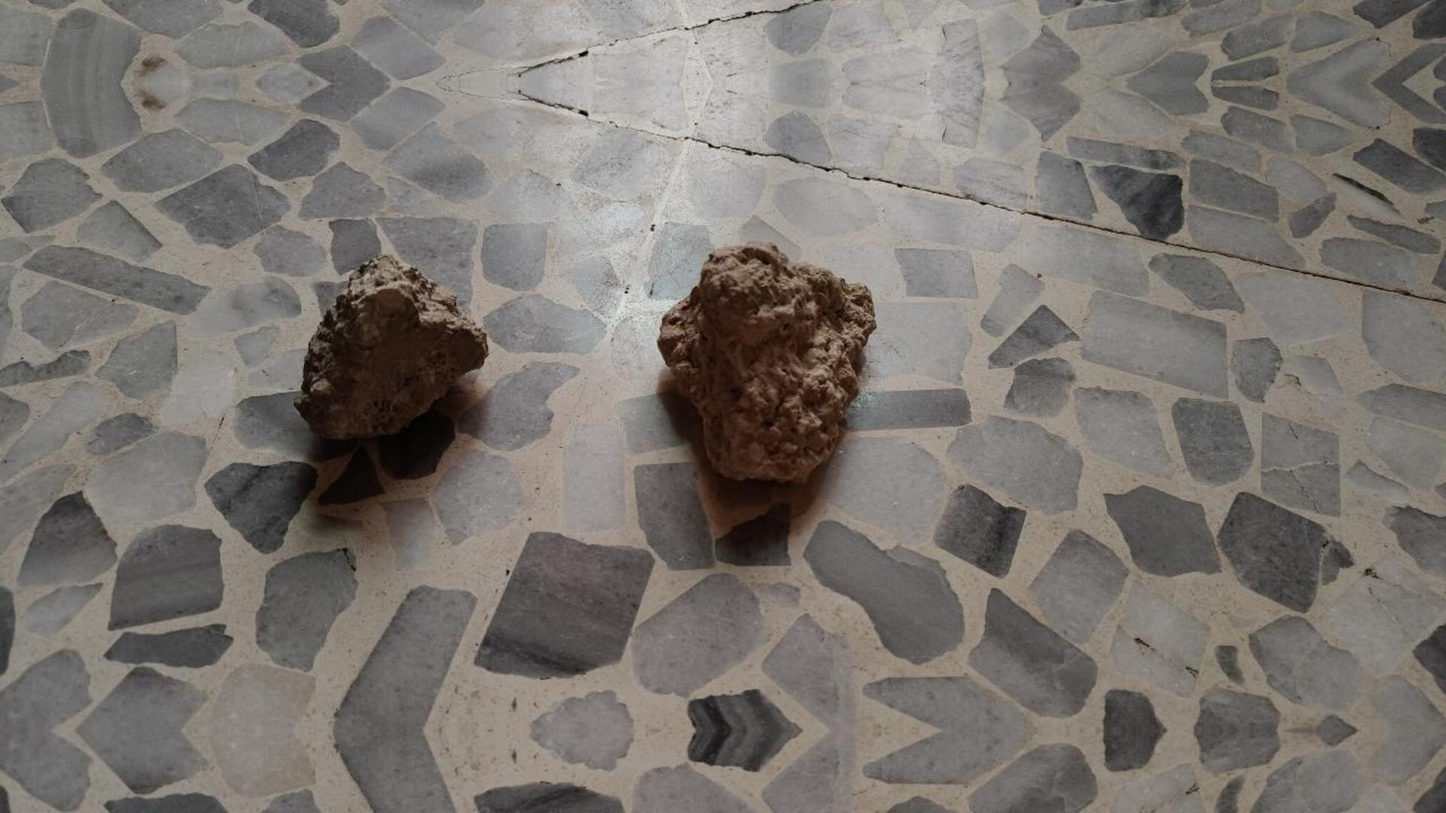rock: (657, 244, 876, 482), (297, 254, 487, 438)
